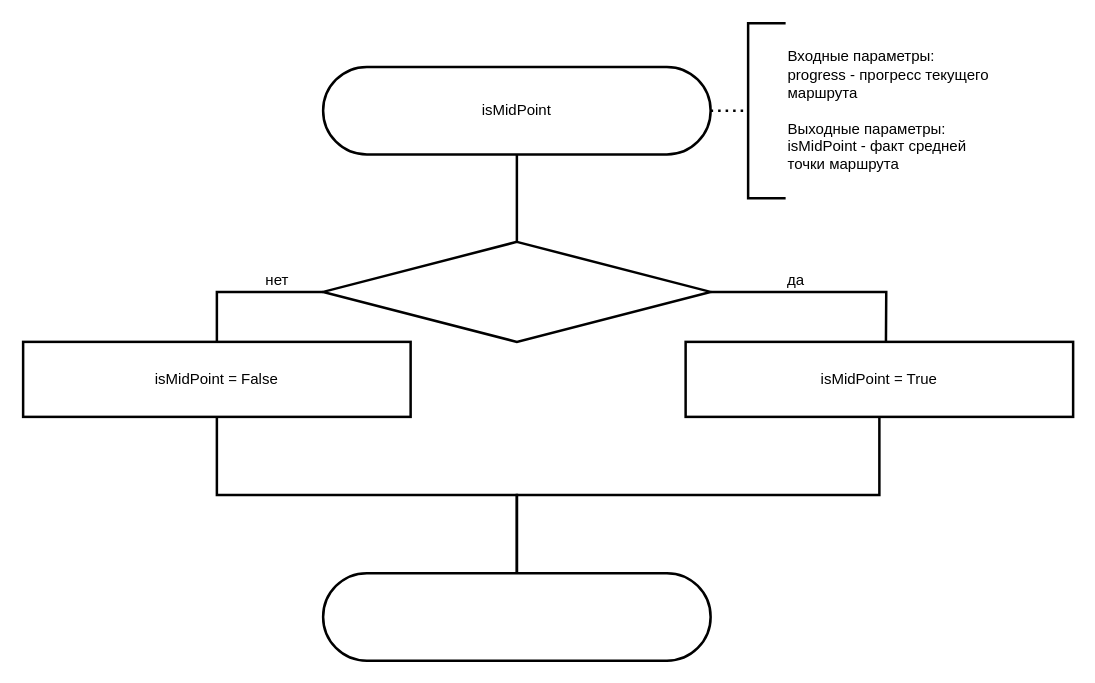
The diagram is 1095 pixels wide and 683 high, and some of its shapes have lost their labels. Here are the shapes that lost their labels. From the top down, the centre of each, then its label:
At (x=516, y=291): "progress == mid_point".
At (x=516, y=616): "Конец".
